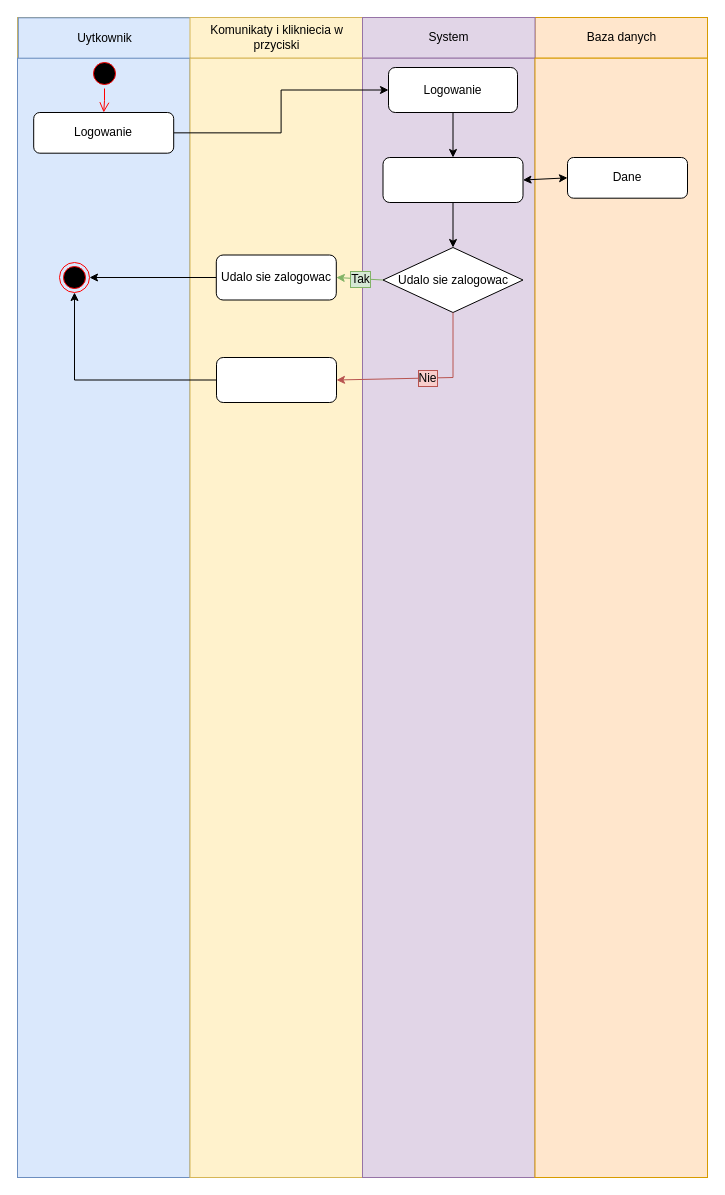
Some shapes in this 725 by 1195 pixel diagram are drawn without their labels. The centre of each missing label's shape, as x and y in pixels:
"Bledne dane" goes at point (276, 379).
"Weryfikowanie danych" goes at point (452, 179).
